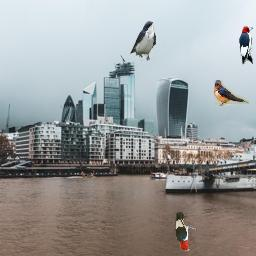Swallow: (130, 21, 156, 61), (214, 80, 249, 106)
Woodpecker: (175, 212, 197, 252), (239, 25, 253, 65)
